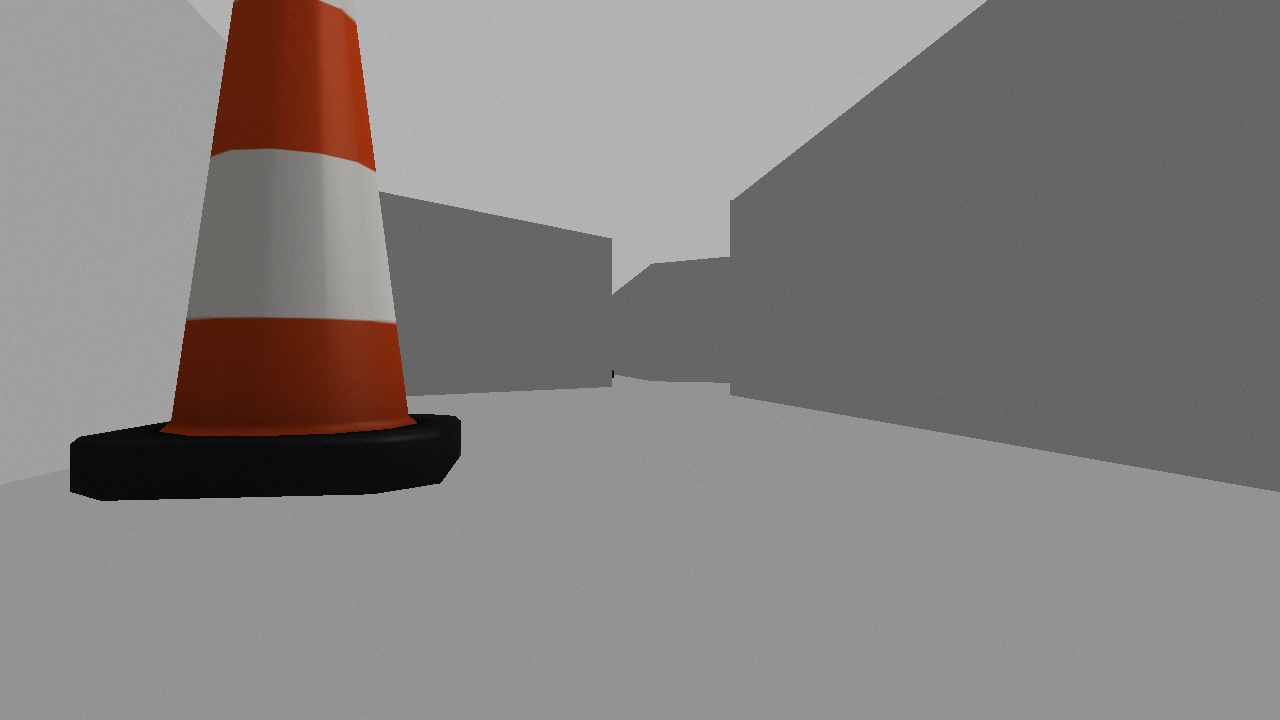barricade: (65, 1, 465, 505)
